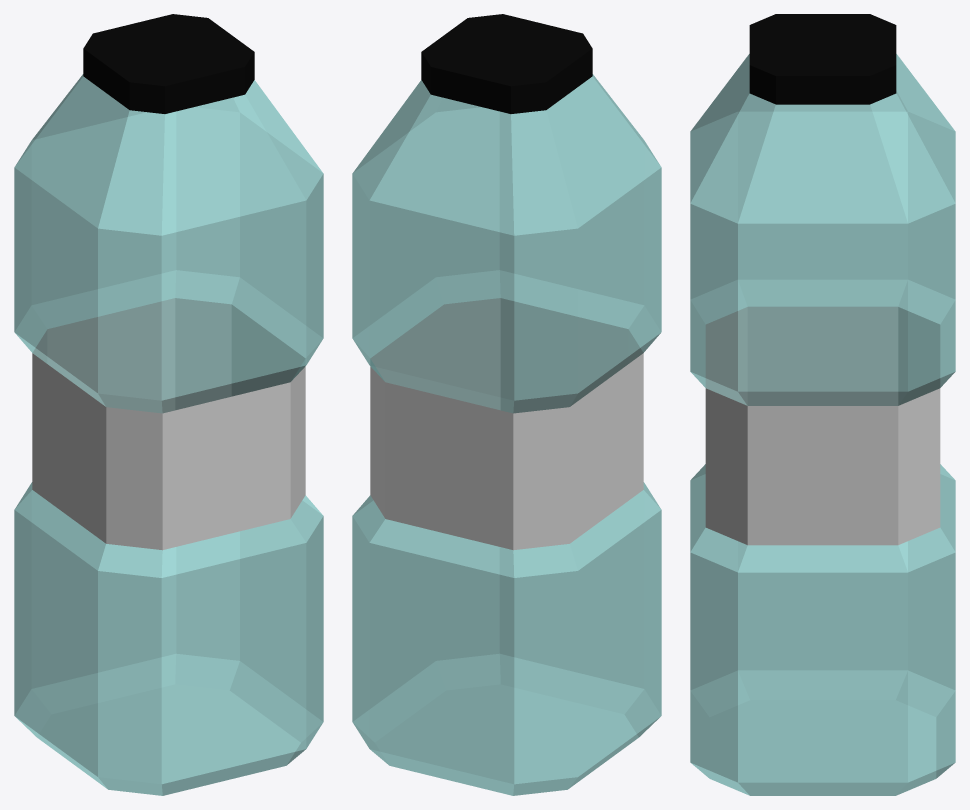
The model's file is Water.fbx.
3 renders of one model, left to right at view 1: azimuth 30°, elevation 25°; view 2: azimuth 150°, elevation 25°; view 3: azimuth 270°, elevation 25°, orthographic.
Parts seen in each view (by area): view 1: Water; view 2: Water; view 3: Water.
Part boxes in pixels (x1,y1,x2,y2): Water: (14,14,323,795); Water: (352,14,661,795); Water: (690,14,955,795).
Bounding box in the file's own units: 21.72 × 63.49 × 21.72.
